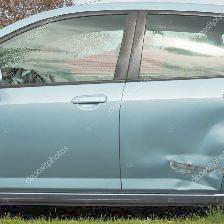door_dent: (174, 84, 223, 193)
